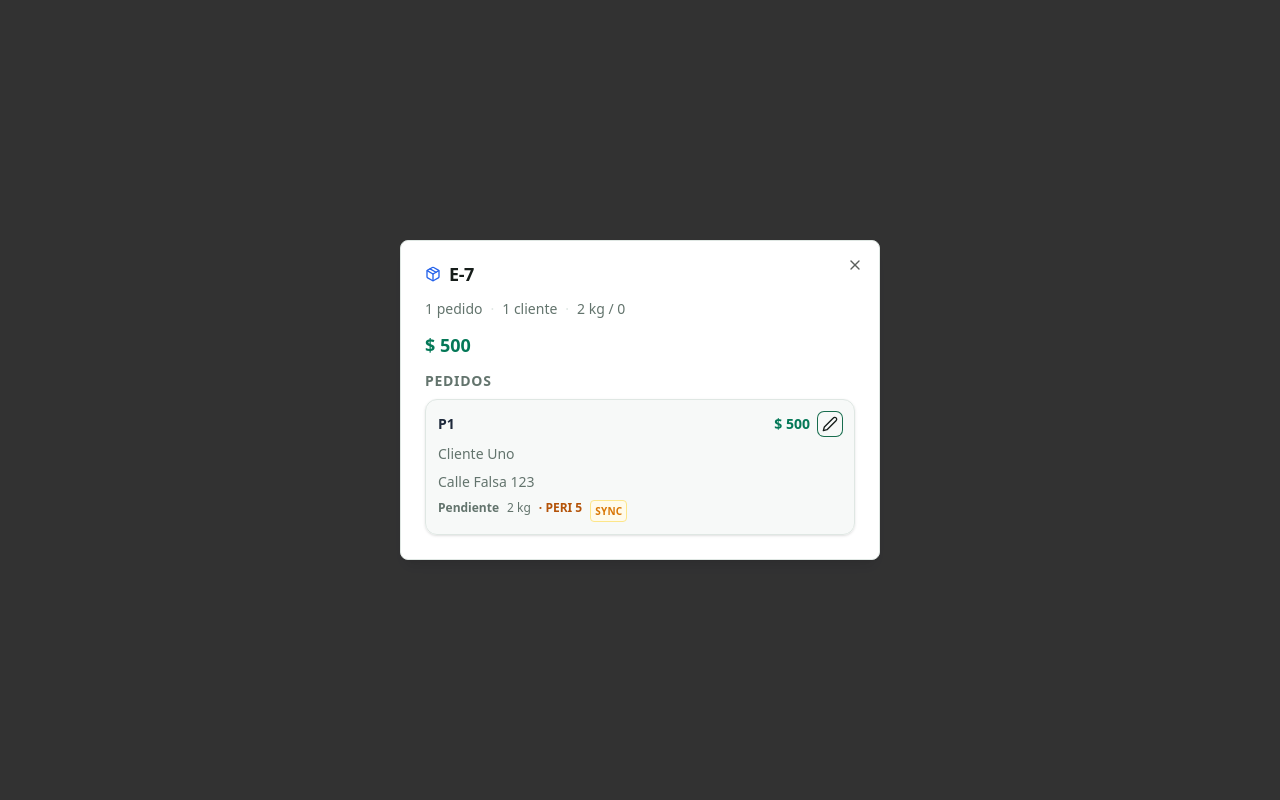
Test: PreparacionDetalleModal — vista › el cross-code se usa para precargar el form si no hay cambio individual
Click the button titled "Modificar reparto".
click(830, 424)  # box [818,412,842,436]
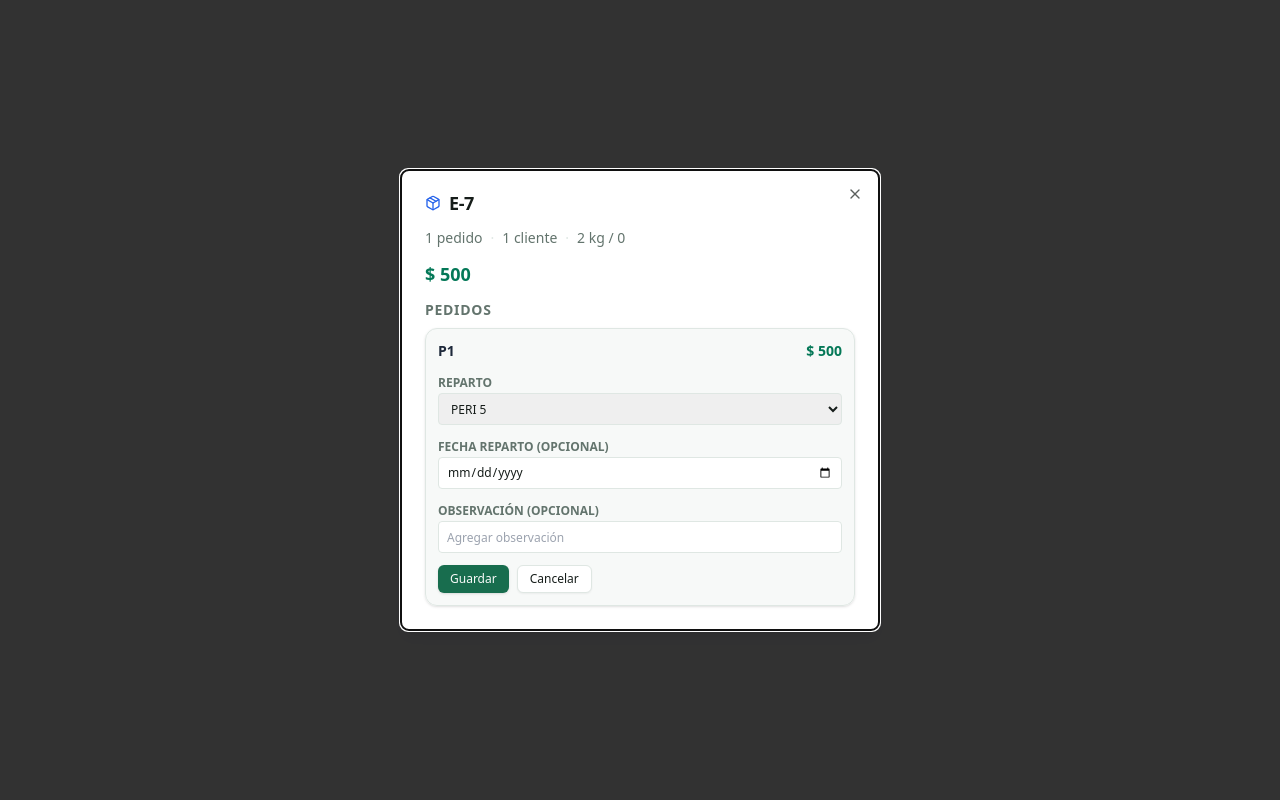
Now the dropdown shows "PERI 5", box [438,393,842,425]
